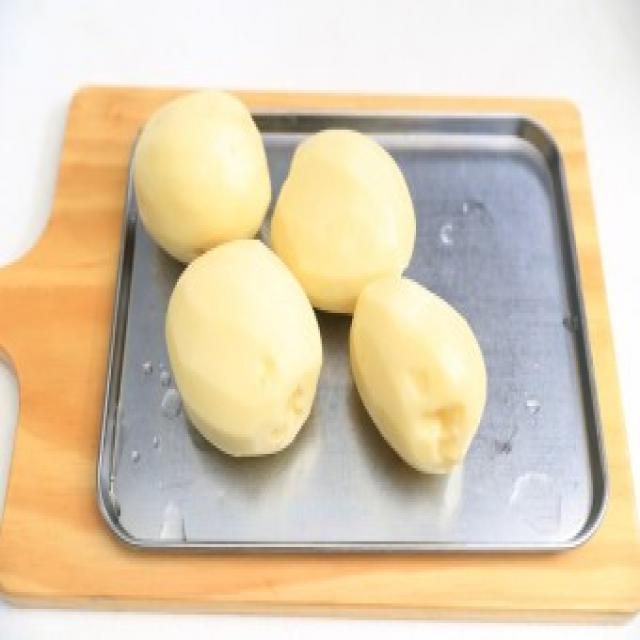potato: (165, 238, 325, 460), (349, 269, 491, 476), (269, 122, 419, 317), (133, 86, 275, 266)
